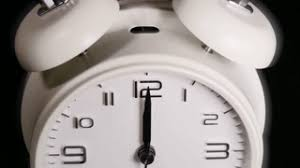alarm_clock: (24, 65, 273, 167), (24, 74, 273, 167), (41, 73, 254, 165), (41, 73, 220, 165)
